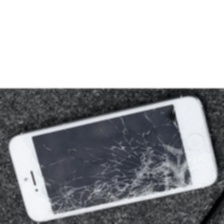phone: (6, 91, 220, 223)
